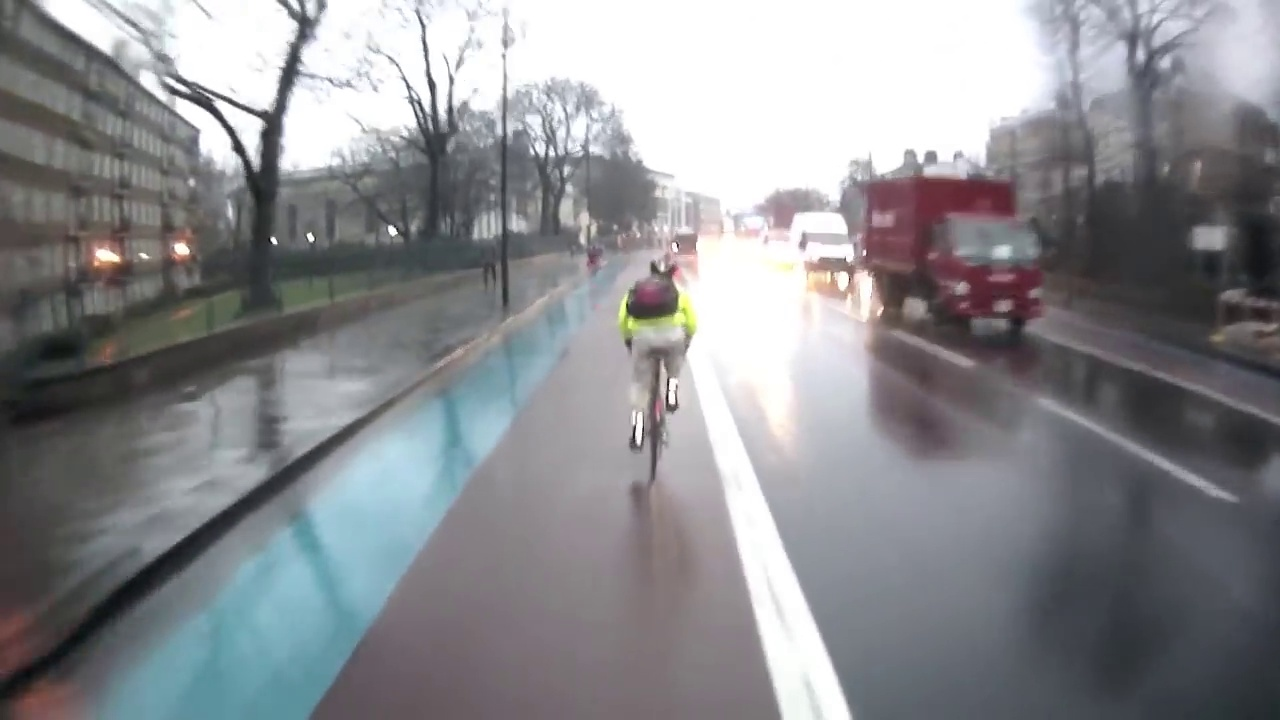cyclist_back: (616, 243, 692, 498)
